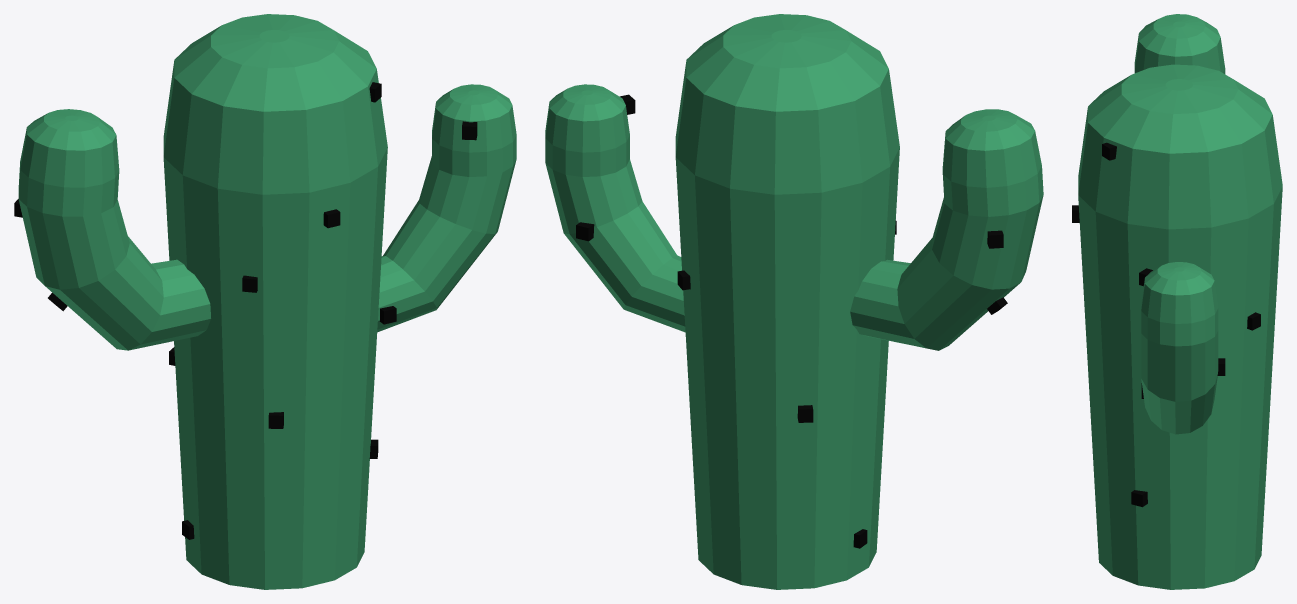
Rendered from cactus.fbx.
3 renders of one model, left to right at view 1: azimuth 30°, elevation 25°; view 2: azimuth 150°, elevation 25°; view 3: azimuth 270°, elevation 25°, orthographic. The views are drawn at different scales.
Visible parts, largest first — view 1: Cylinder; view 2: Cylinder; view 3: Cylinder.
Part boxes in pixels (x1,y1,x2,y2): Cylinder: [14, 14, 516, 589]; Cylinder: [545, 14, 1043, 589]; Cylinder: [1072, 14, 1282, 589].
Bounding box in the file's own units: 331 × 336 × 136.
